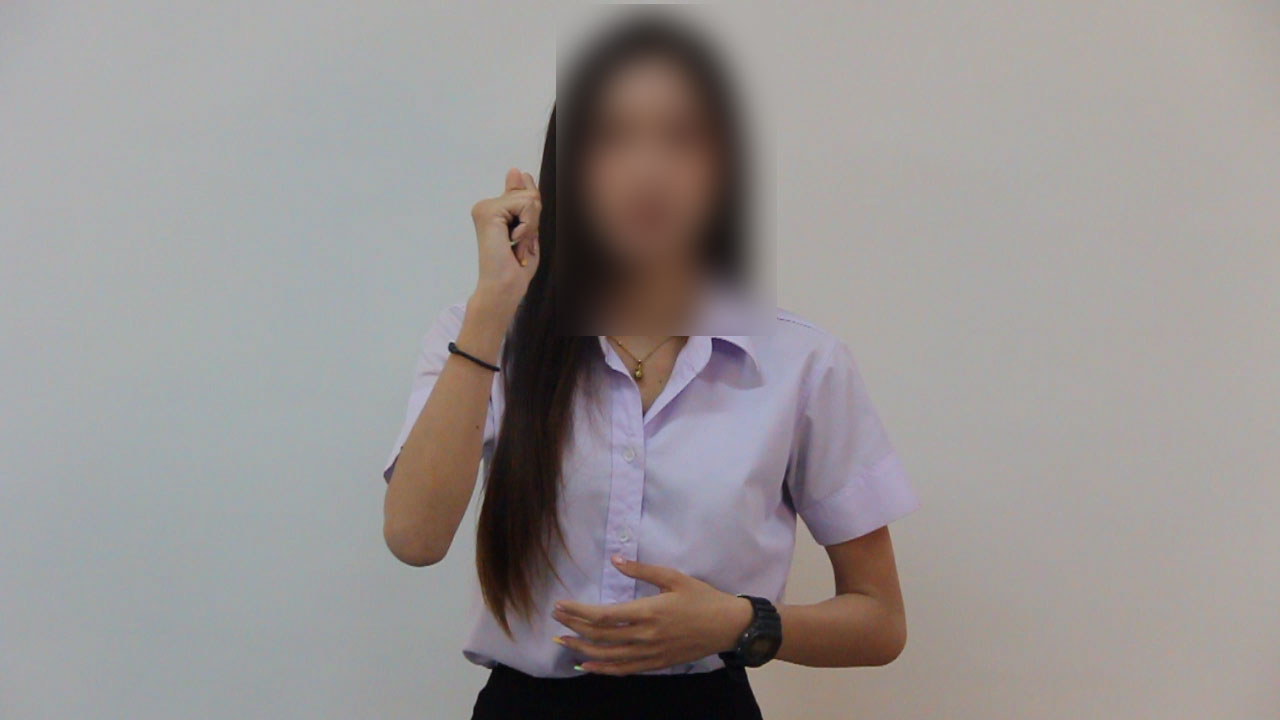tor: (451, 158, 576, 313)
